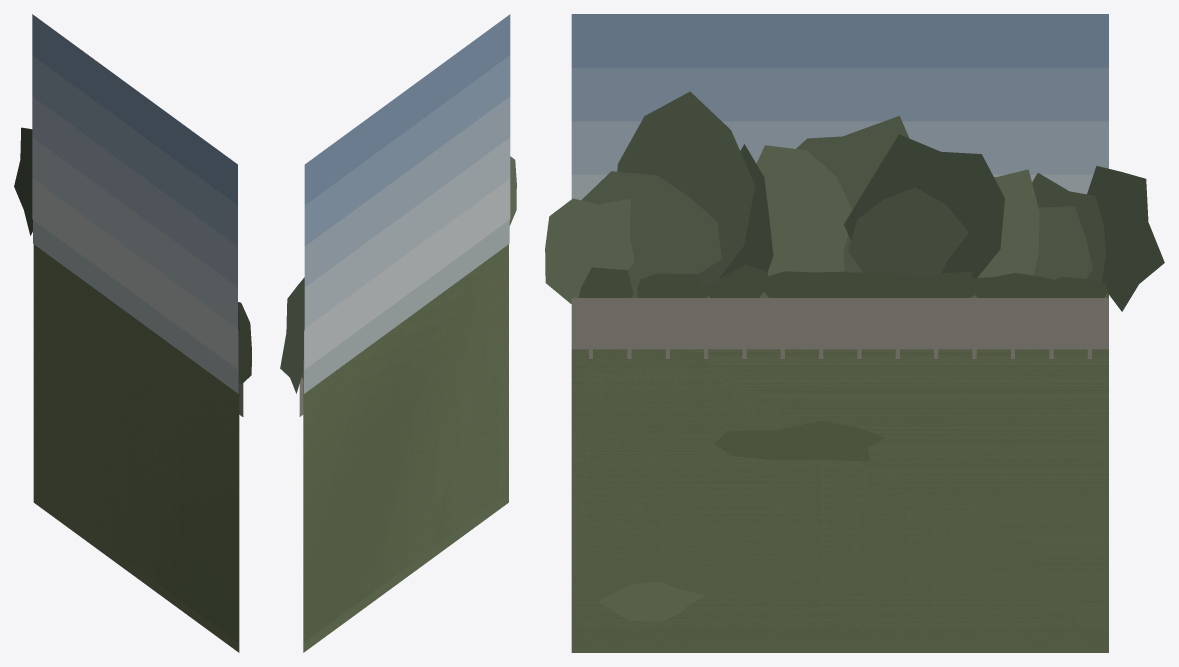
Rendered from view_w5.glb.
3 views of the same model, side by side, from view 1: azimuth 30°, elevation 25°; view 2: azimuth 150°, elevation 25°; view 3: azimuth 270°, elevation 25° (orthographic). The views are drawn at different scales.
Visible parts, largest first — view 1: root; view 2: root; view 3: root.
Boxes of the visible parts, x1=… form: root: x1=14, y1=14, x2=251, y2=652; root: x1=280, y1=14, x2=516, y2=652; root: x1=545, y1=14, x2=1164, y2=652.
Size of the model in its own units: 0.0213 by 1.8 by 1.58.
